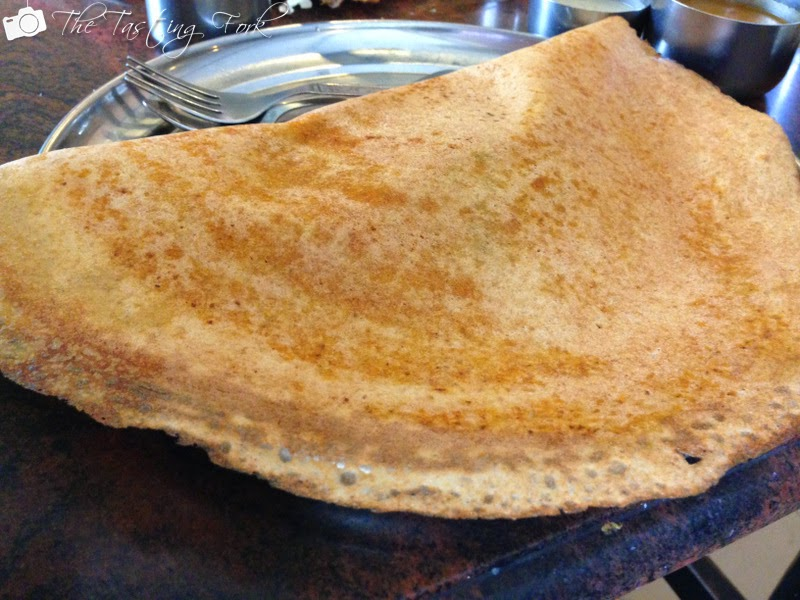dosa: (3, 12, 800, 516)
